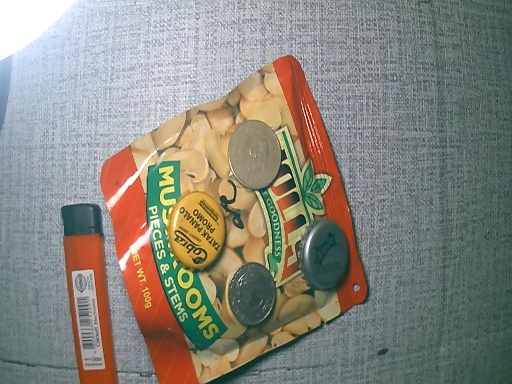metal: (166, 195, 227, 270), (225, 118, 281, 189), (297, 218, 351, 291), (229, 262, 278, 326)
plastic: (103, 56, 368, 384)
trash: (60, 199, 107, 384)
